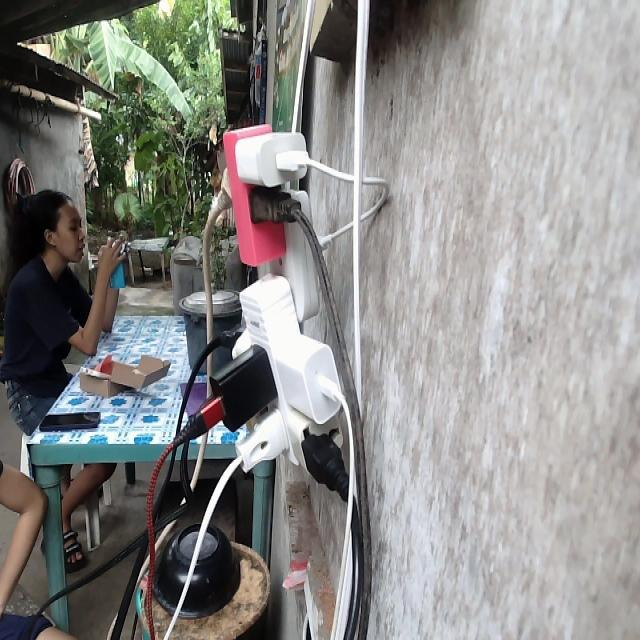-: (199, 120, 351, 476)
